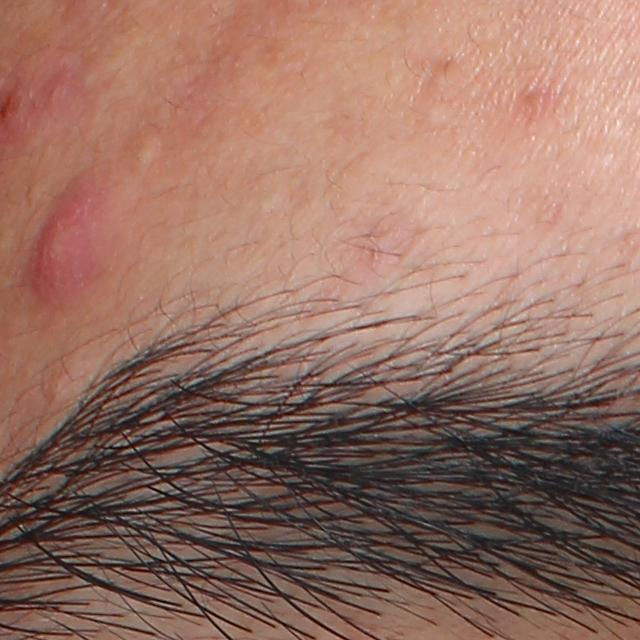comedo: (123, 126, 165, 173), (416, 101, 450, 132)
papule: (25, 197, 99, 300)
